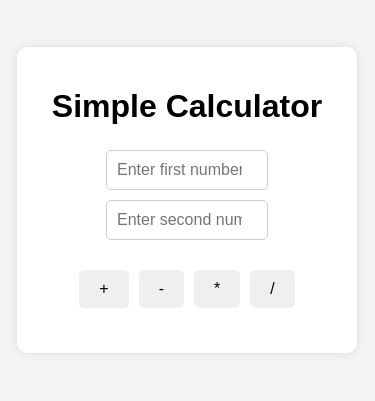
Test: performs multiplication operation
Type "4" into the number field with placeholder "Enter first number".
click(187, 170); type("4")  # box x1=106 y1=150 x2=268 y2=190
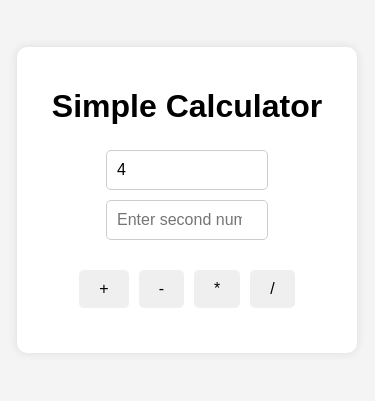
Type "5" into the number field with placeholder "Enter second number".
click(187, 220); type("5")  # box x1=106 y1=200 x2=268 y2=240
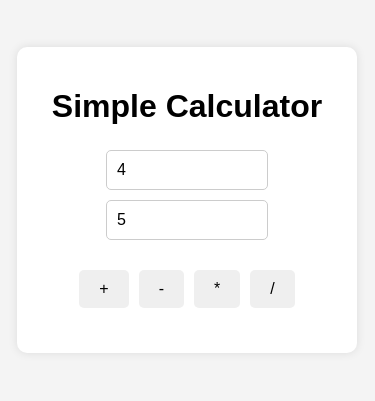
Click the button "*".
click(217, 289)  # box x1=194 y1=270 x2=240 y2=308
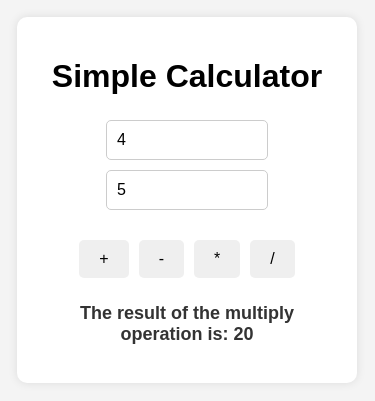
Expected: the text "The result of the multiply operation is: 20" is shown, x1=80 y1=303 x2=294 y2=344
